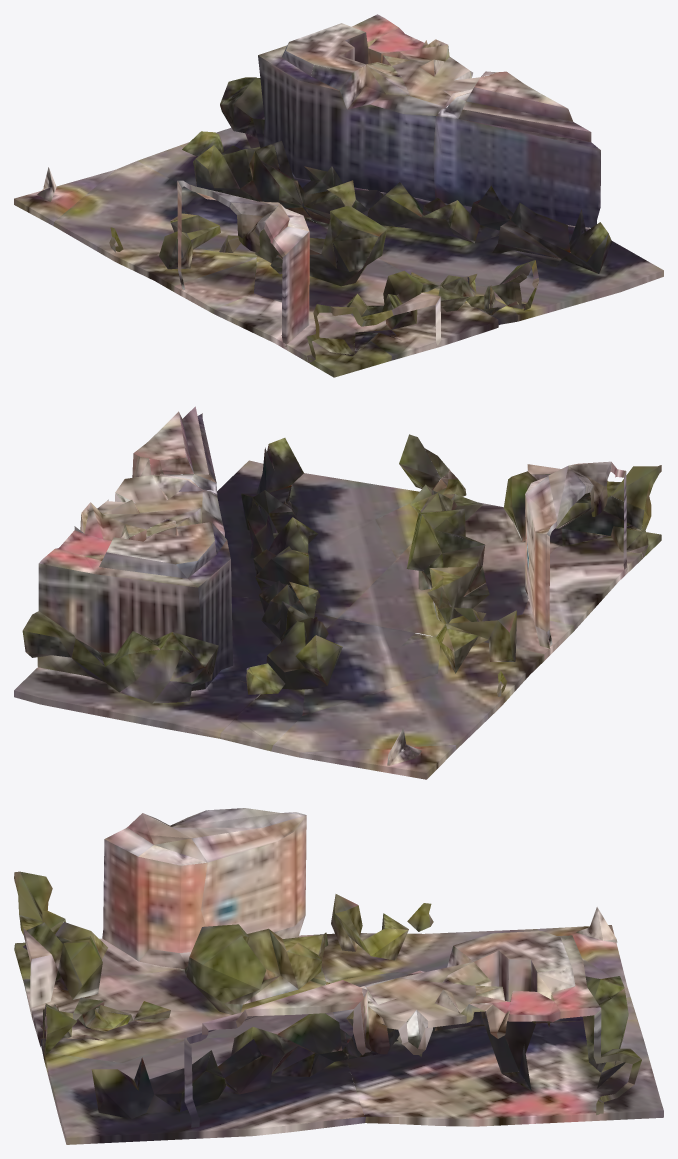
3 renders of one model, top to bottom at view 1: azimuth 30°, elevation 25°; view 2: azimuth 150°, elevation 25°; view 3: azimuth 270°, elevation 25°, orthographic. The views are drawn at different scales.
Visible parts, largest first — view 1: Mesh_0; view 2: Mesh_0; view 3: Mesh_0.
Boxes of the visible parts, x1=… form: Mesh_0: x1=14, y1=14, x2=663, y2=377; Mesh_0: x1=14, y1=406, x2=661, y2=779; Mesh_0: x1=14, y1=808, x2=663, y2=1144.
Size of the model in its own units: 133 by 39.96 by 165.
Materials: 2 (2 with a texture image).
